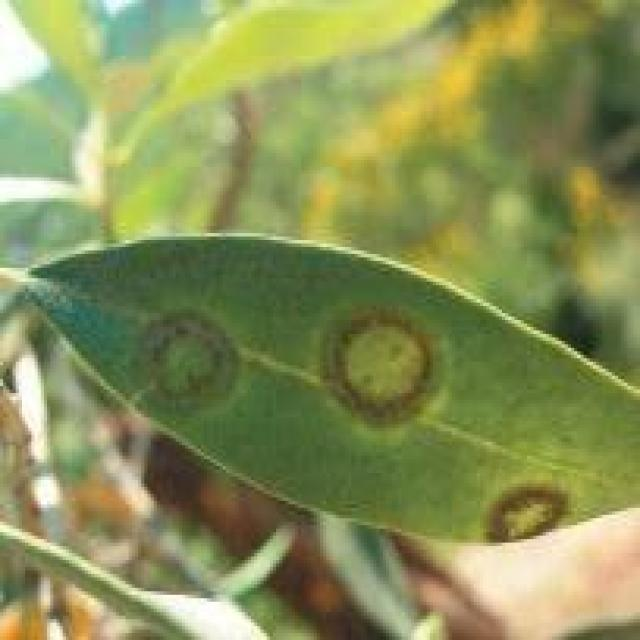OlivePeacockSpot: (16, 233, 637, 536)
